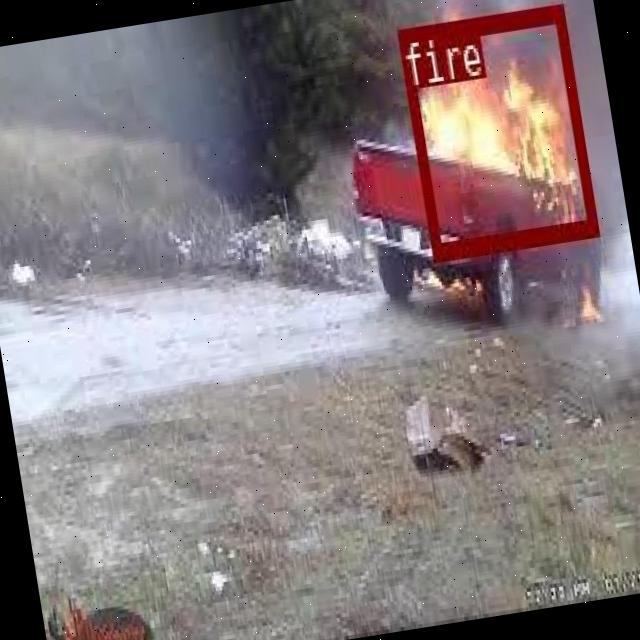fire: (397, 3, 596, 258)
